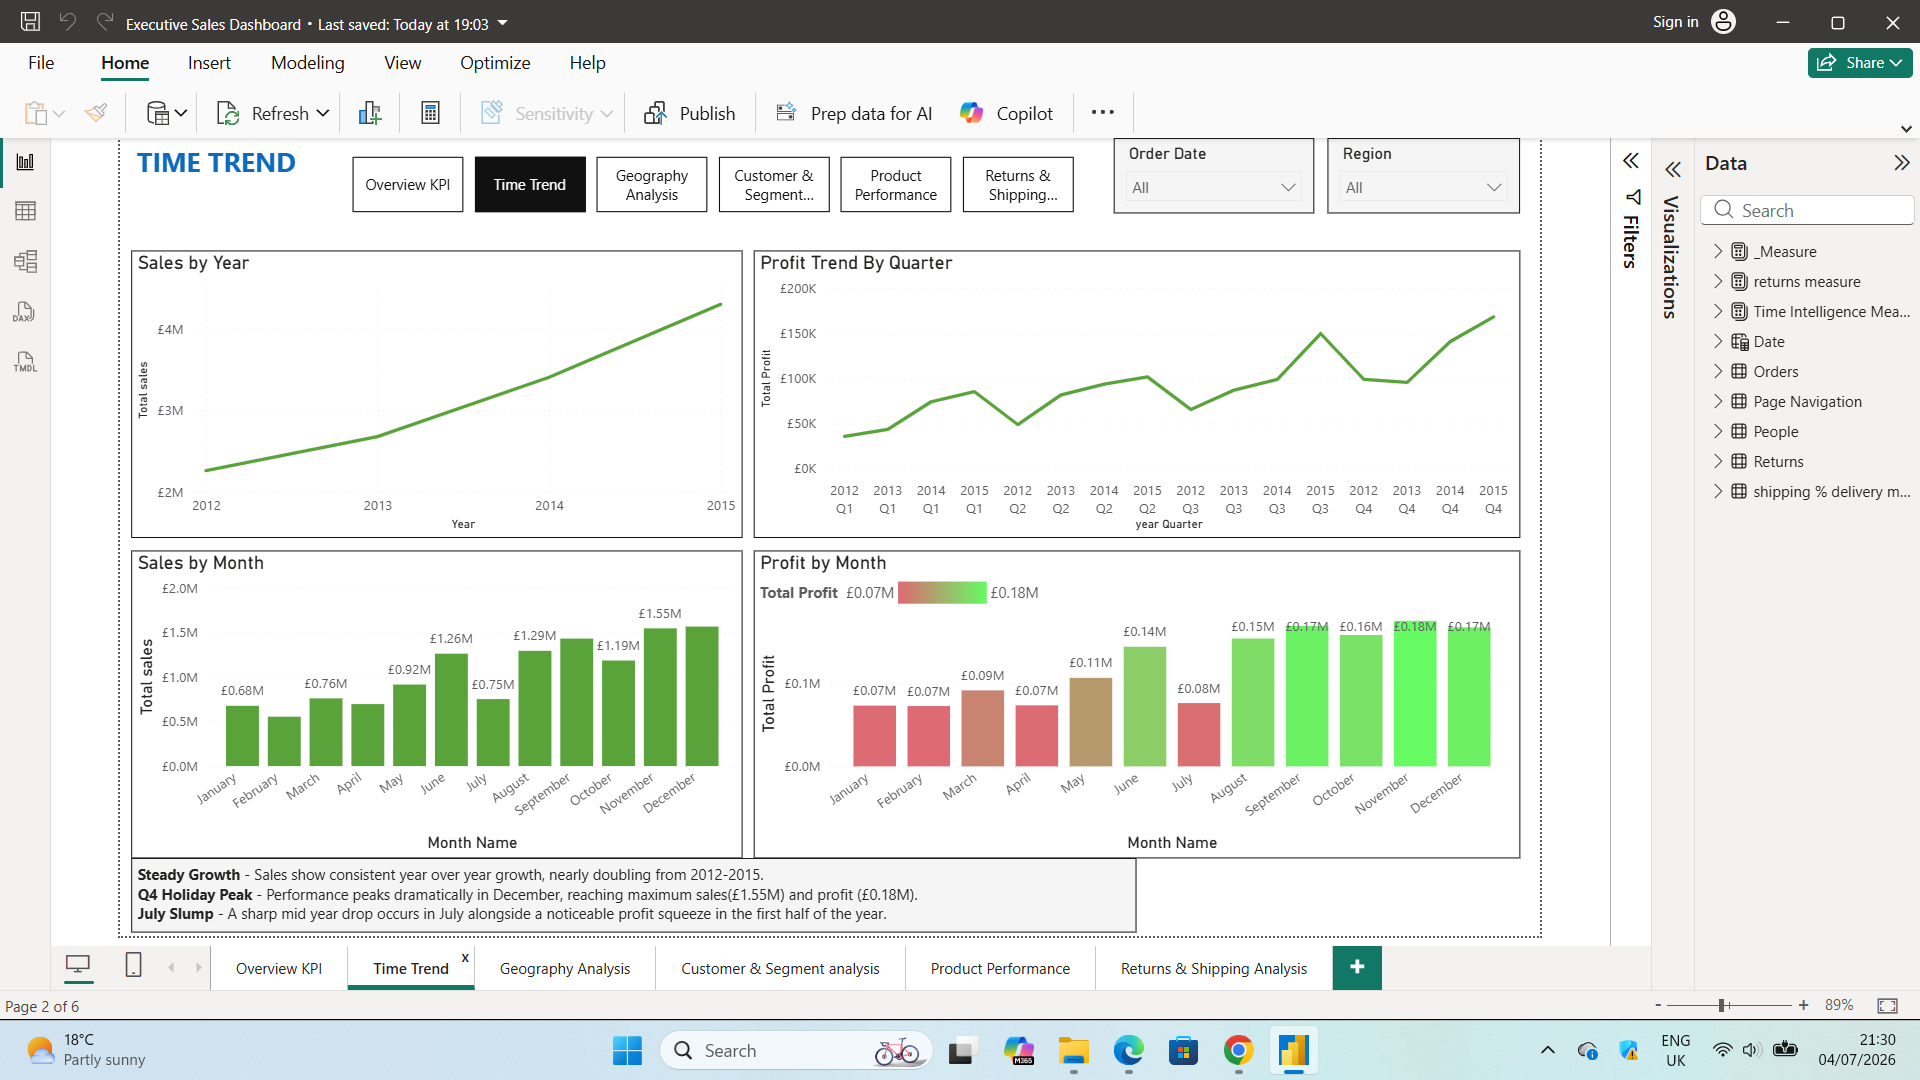

What the dashboard file says about the page in this screenshot:
{"tool":"powerbi","page":{"name":"Time Trend","canvas":[1280,720],"ordinal":1},"visuals":[{"type":"lineChart","title":" Sales by Year","fields":{"Category":["Date.Year"],"Y":["_Measure.Total sales"]},"box":[10.1,101.2,550.9,258.8],"z":0},{"type":"lineChart","title":"Profit Trend By Quarter","fields":{"Category":["Date.year Quarter"],"Y":["_Measure.Total Profit"]},"box":[571.2,101.2,691.2,258.8],"z":1000},{"type":"clusteredColumnChart","title":"Sales by Month ","fields":{"Category":["Date.Month Name"],"Y":["_Measure.Total sales"]},"box":[9.8,371.7,551.5,277.6],"z":2000},{"type":"clusteredColumnChart","title":" Profit by Month ","fields":{"Category":["Date.Month Name"],"Y":["_Measure.Total Profit"]},"box":[571.1,371.7,690.9,277.6],"z":3000},{"type":"textbox","box":[9.8,0,185.9,69.7],"z":4000},{"type":"slicer","fields":{"Values":["Orders.Order Date"]},"box":[896.5,0,180.8,68],"z":5000},{"type":"slicer","fields":{"Values":["Orders.Region"]},"box":[1088.9,0,173.5,68],"z":6000},{"type":"pageNavigator","box":[209.7,17.4,655,50.6],"z":7000},{"type":"textbox","box":[9.9,649.2,906.1,67],"z":8000}]}

Visuals, with their boxes on the page's 1280x720 design canvas (x1, y1, x2, y2). These are canvas units, not pixel positions in the 1920x1080 screenshot, which may show the page scaled, cropped or inside an application window:
" Sales by Year" lineChart: [x1=10, y1=101, x2=561, y2=360]
"Profit Trend By Quarter" lineChart: [x1=571, y1=101, x2=1262, y2=360]
"Sales by Month " clusteredColumnChart: [x1=10, y1=372, x2=561, y2=649]
" Profit by Month " clusteredColumnChart: [x1=571, y1=372, x2=1262, y2=649]
textbox: [x1=10, y1=0, x2=196, y2=70]
slicer - Orders.Order Date: [x1=896, y1=0, x2=1077, y2=68]
slicer - Orders.Region: [x1=1089, y1=0, x2=1262, y2=68]
pageNavigator: [x1=210, y1=17, x2=865, y2=68]
textbox: [x1=10, y1=649, x2=916, y2=716]
